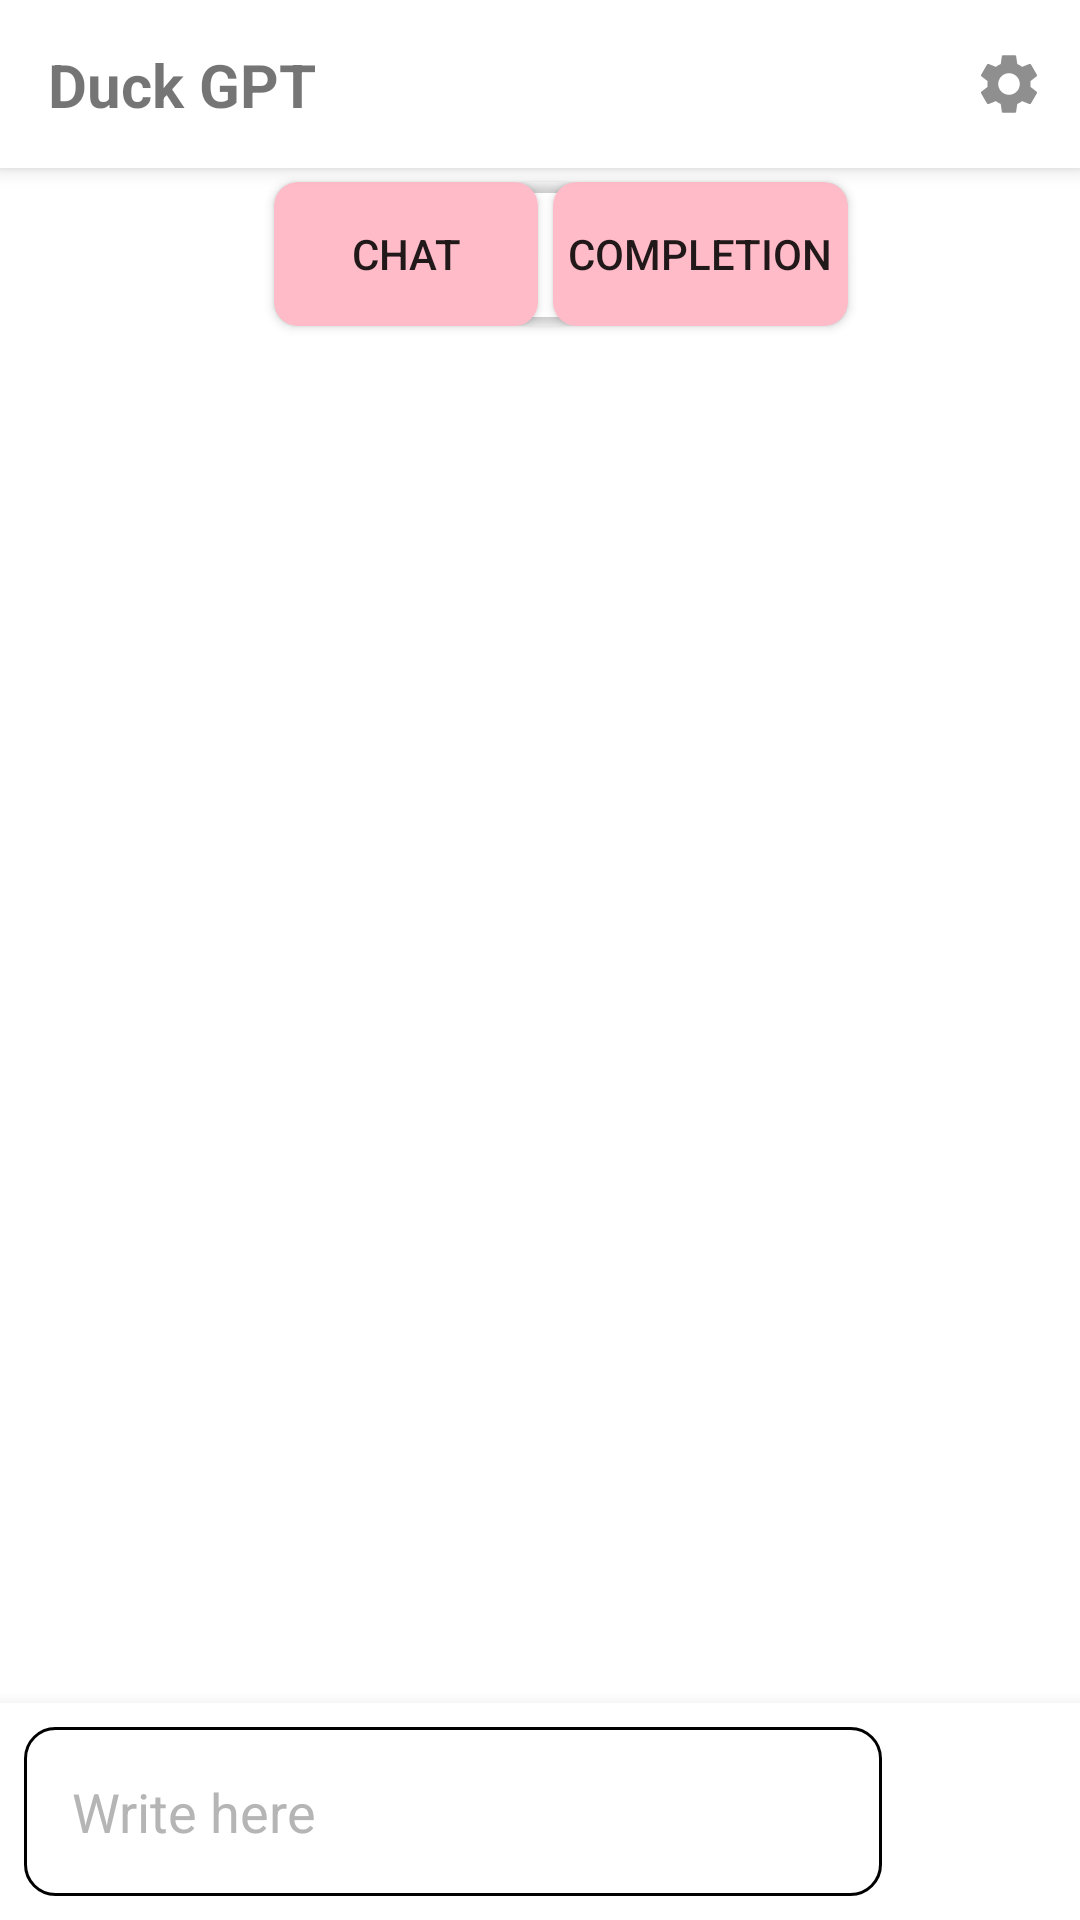

Named icons in this screenshot (1080w x 1920h) and their bounding boxes, (x1,y1,x2,y2):
settings: (981,55,1037,113)
